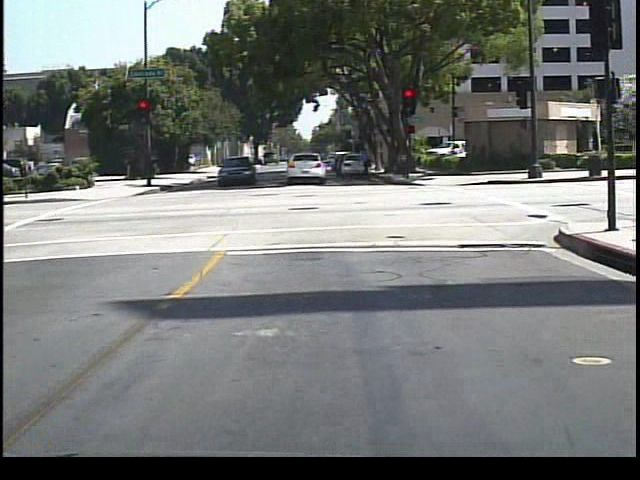person: (356, 144, 378, 185)
